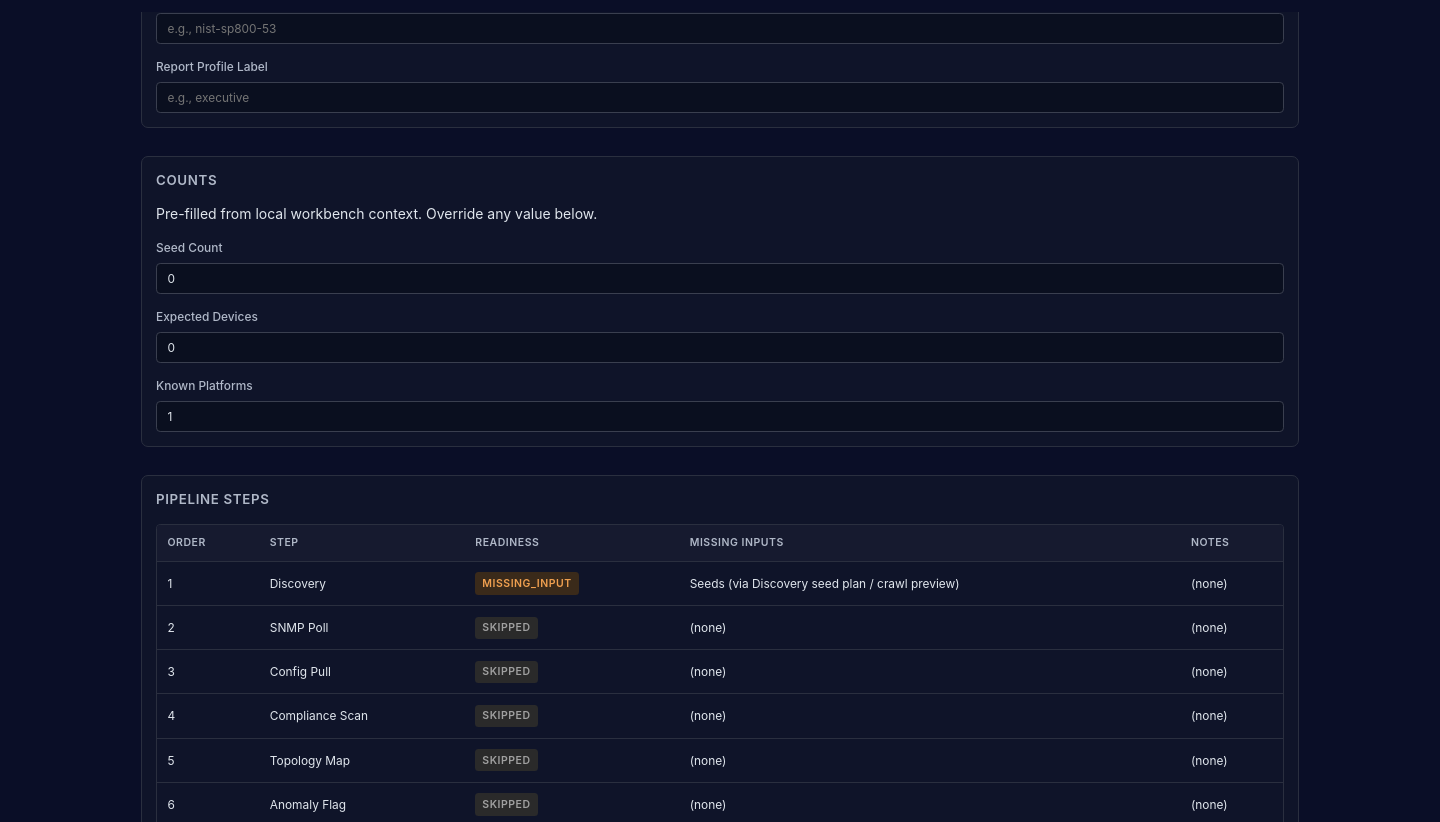
Scenario: AssessPipelinePlannerPanel prefill › V1BP: prefilled known_platforms=1 from intake, operator overrides to 5
(page scrolled)
Note: Operator overrides to 5
Replace the text in the number field labelled "Known Platforms" with "5" at (720, 417), box [156,401,1284,432]
(page scrolled)
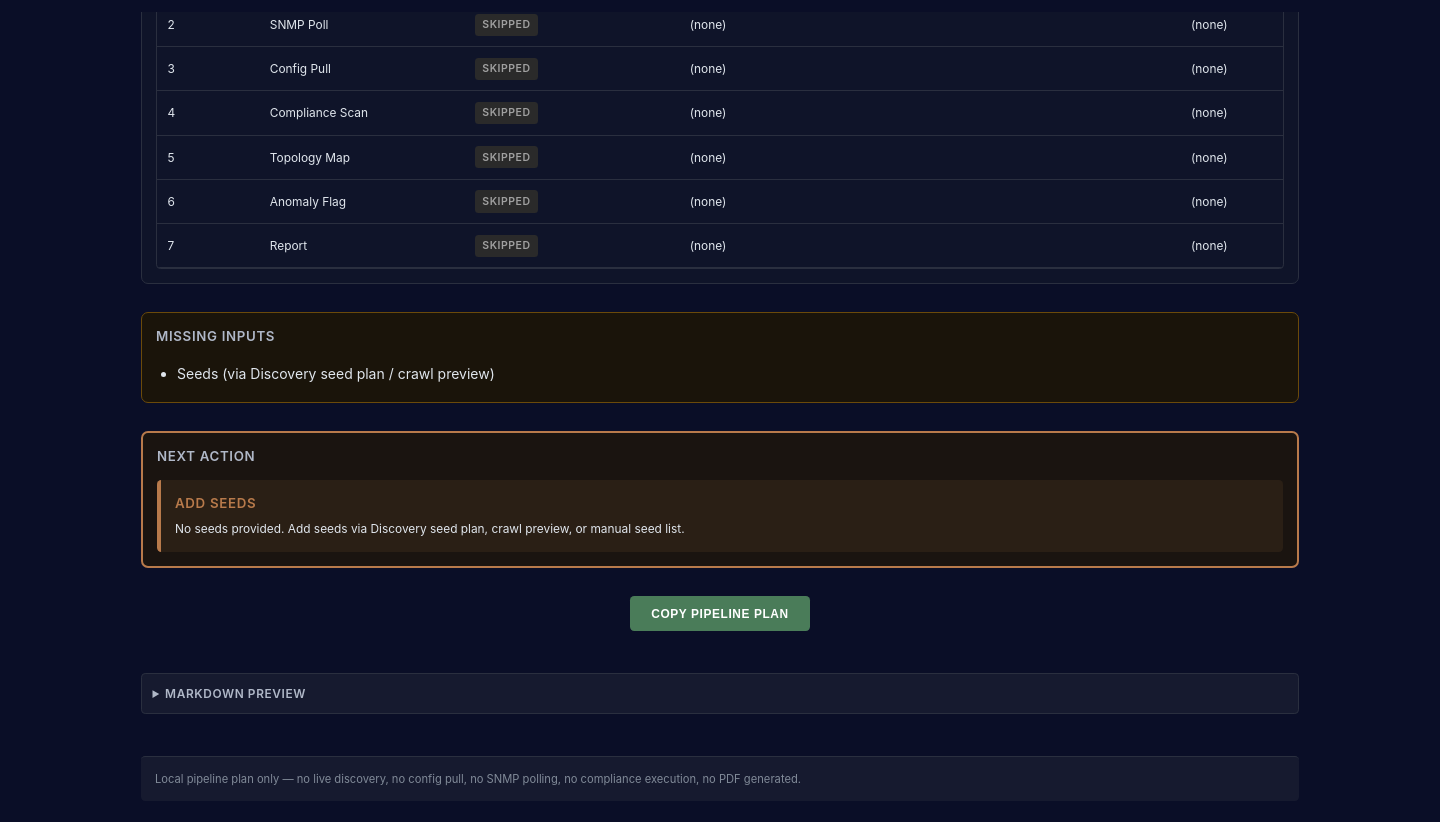
Now the heading "Markdown Preview" is shown, box [141,673,1299,714]
